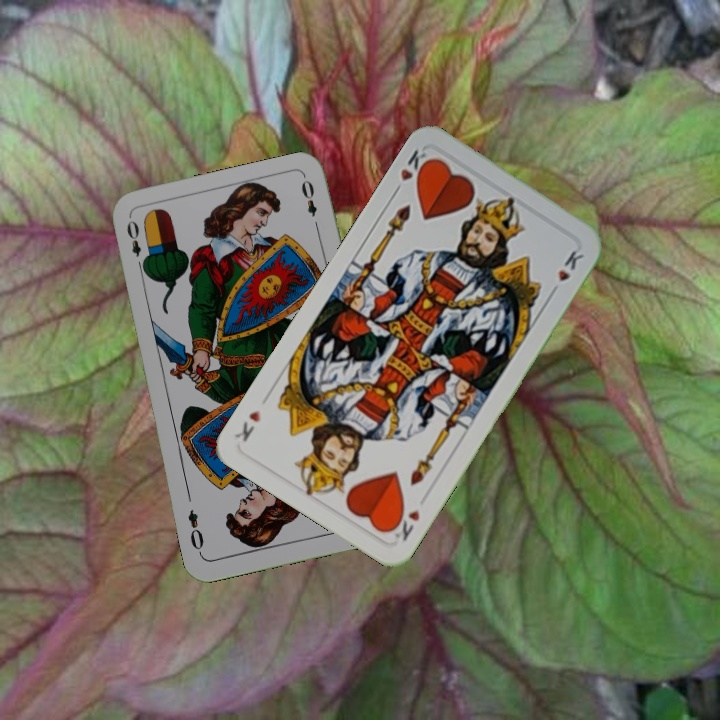EO: (122, 216, 149, 274)
HK: (388, 145, 436, 198), (384, 504, 422, 544)
